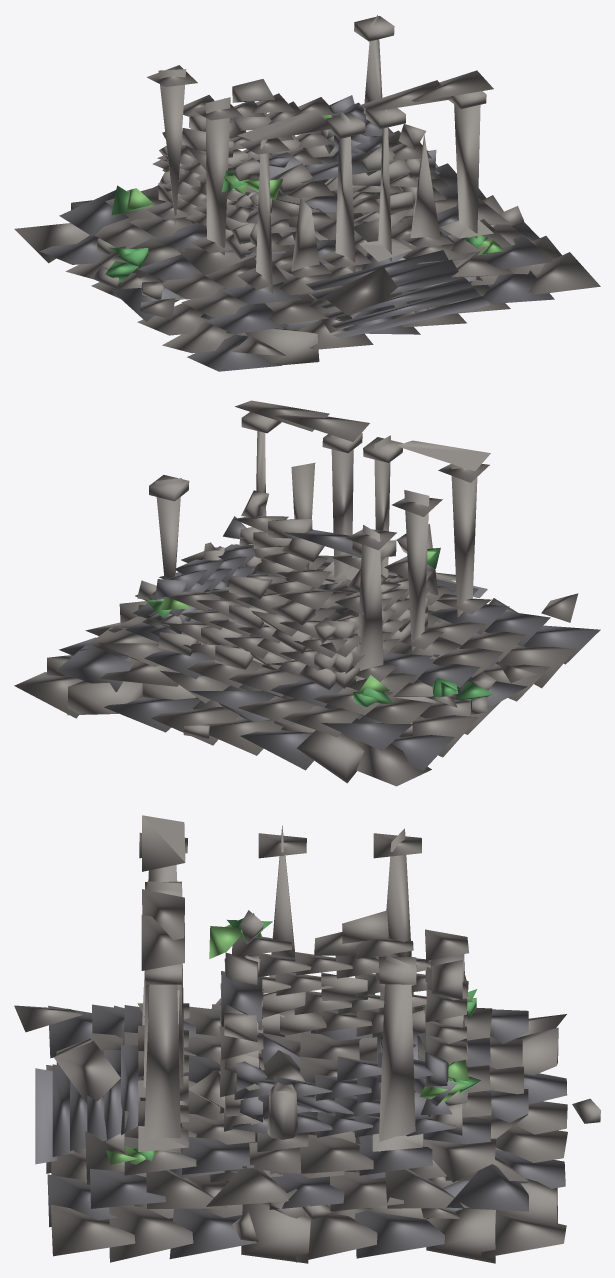
The model's file is poi_ruin_temple_lods.d83c847b.glb.
3 renders of one model, top to bottom at view 1: azimuth 30°, elevation 25°; view 2: azimuth 150°, elevation 25°; view 3: azimuth 270°, elevation 25°, orthographic. The views are drawn at different scales.
Visible parts, largest first — view 1: poi_ruin_temple_far; view 2: poi_ruin_temple_far; view 3: poi_ruin_temple_far.
Part boxes in pixels (<box>): poi_ruin_temple_far: <box>14,15,600,371</box>; poi_ruin_temple_far: <box>14,400,600,786</box>; poi_ruin_temple_far: <box>14,815,600,1263</box>.
Size of what is drawn, in the model's own units: 14.01 by 7 by 14.27.
